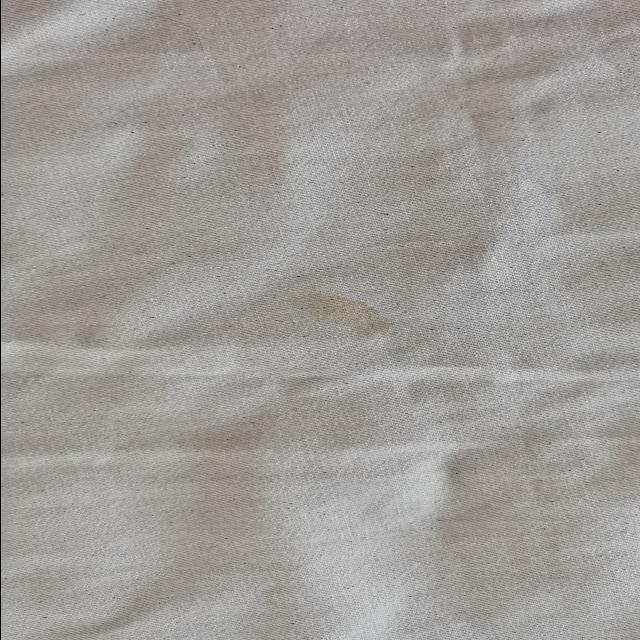taaaches: (274, 290, 404, 340)
